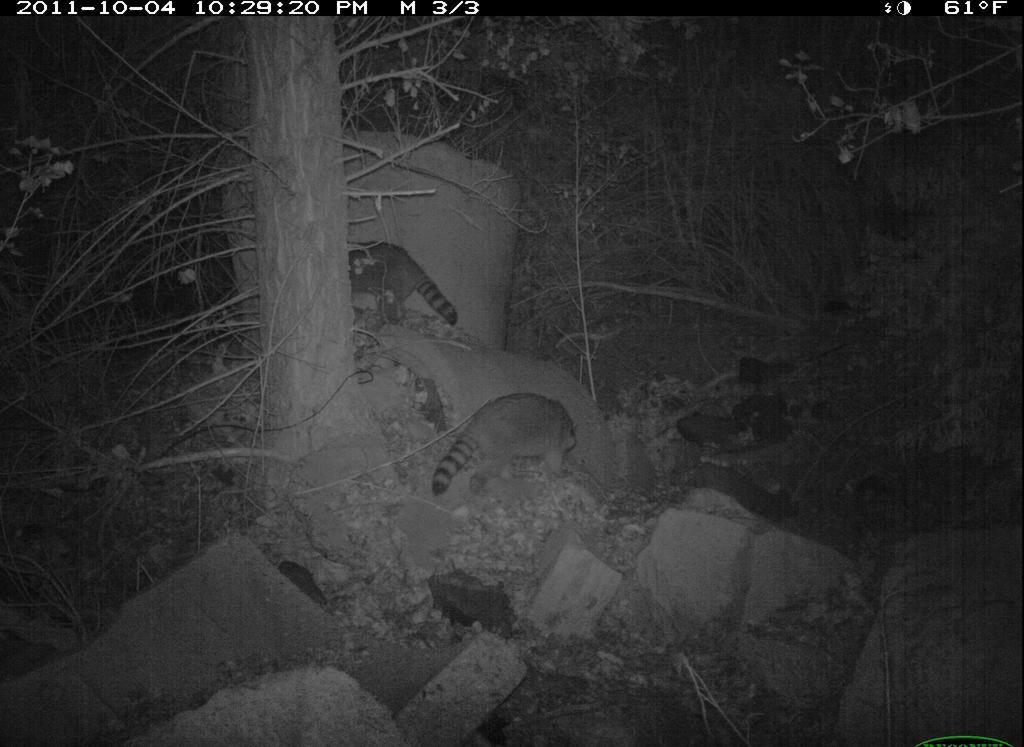raccoon: (424, 385, 596, 505), (346, 232, 469, 346)
